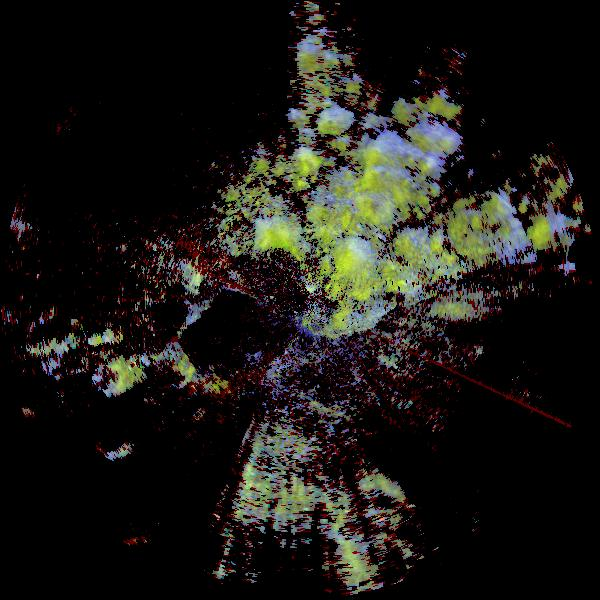roost: (153, 347, 201, 395), (90, 416, 138, 464), (92, 361, 134, 403)
